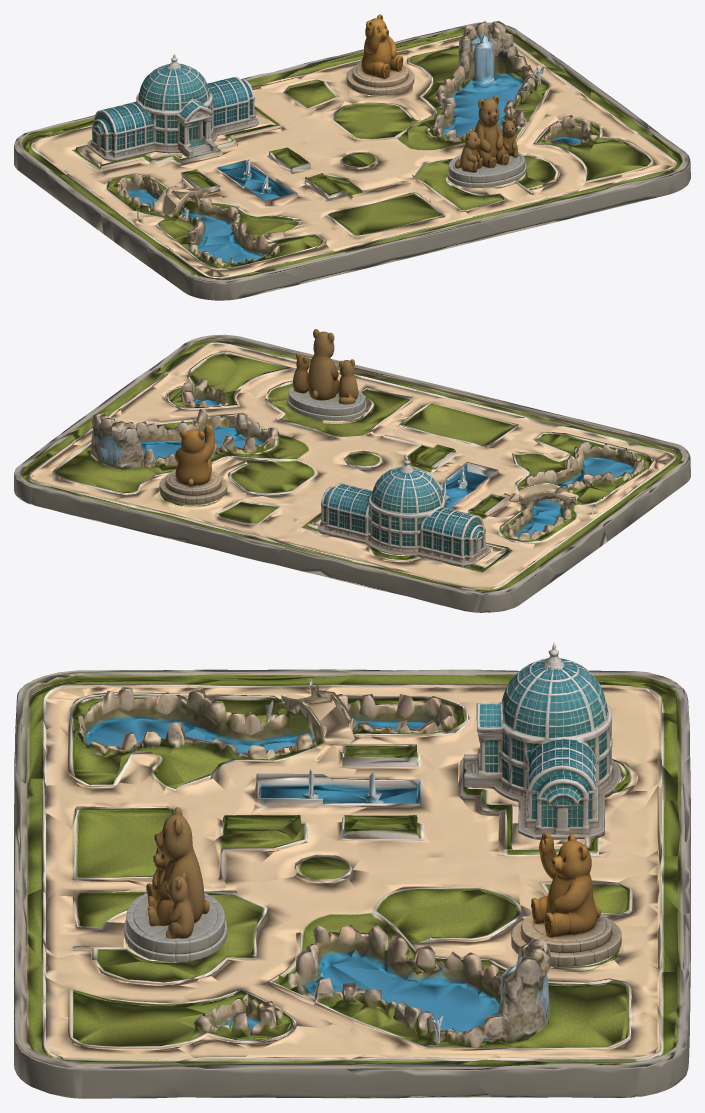
Rendered from bear-tree-park-optimized.glb.
3 views of the same model, one above another, from view 1: azimuth 30°, elevation 25°; view 2: azimuth 150°, elevation 25°; view 3: azimuth 270°, elevation 25° (orthographic). The views are drawn at different scales.
Parts seen in each view (by area): view 1: site, greenhouse, tripo_node_816cfa46-0ef3-4a12-be52-0dae3d331bff, tripo_node_663ac3ae-202d-4035-bde3-3b143688b477; view 2: site, greenhouse, tripo_node_816cfa46-0ef3-4a12-be52-0dae3d331bff, tripo_node_663ac3ae-202d-4035-bde3-3b143688b477; view 3: site, greenhouse, tripo_node_816cfa46-0ef3-4a12-be52-0dae3d331bff, tripo_node_663ac3ae-202d-4035-bde3-3b143688b477.
Part boxes in pixels (<box>): site: <box>14,21,690,300</box>; greenhouse: <box>87,53,258,161</box>; tripo_node_816cfa46-0ef3-4a12-be52-0dae3d331bff: <box>447,95,526,187</box>; tripo_node_663ac3ae-202d-4035-bde3-3b143688b477: <box>346,14,414,95</box>; site: <box>14,334,690,612</box>; greenhouse: <box>318,456,490,567</box>; tripo_node_816cfa46-0ef3-4a12-be52-0dae3d331bff: <box>287,329,366,420</box>; tripo_node_663ac3ae-202d-4035-bde3-3b143688b477: <box>159,424,227,504</box>; site: <box>14,669,690,1098</box>; greenhouse: <box>464,642,620,839</box>; tripo_node_816cfa46-0ef3-4a12-be52-0dae3d331bff: <box>124,807,226,962</box>; tripo_node_663ac3ae-202d-4035-bde3-3b143688b477: <box>511,832,621,966</box>.
Size of the model in its own units: 35 by 6.71 by 25.
Materials: 4 (4 with a texture image).
